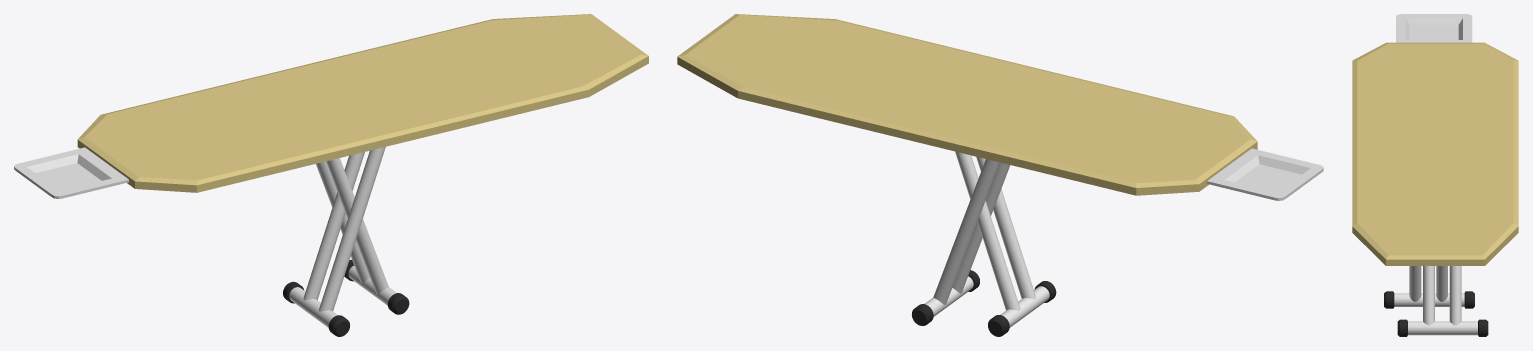
File: gladilka10.fbx
The picture shows the model from 3 angles, left to right: view 1: azimuth 30°, elevation 25°; view 2: azimuth 150°, elevation 25°; view 3: azimuth 270°, elevation 25°; orthographic projection. The views are drawn at different scales.
Visible parts, largest first — view 1: Cylinder.001; view 2: Cylinder.001; view 3: Cylinder.001.
Part boxes in pixels (<box>): Cylinder.001: <box>14,14,648,336</box>; Cylinder.001: <box>677,14,1323,336</box>; Cylinder.001: <box>1352,14,1518,336</box>.
Size of the model in its own units: 712 by 241 by 202.
